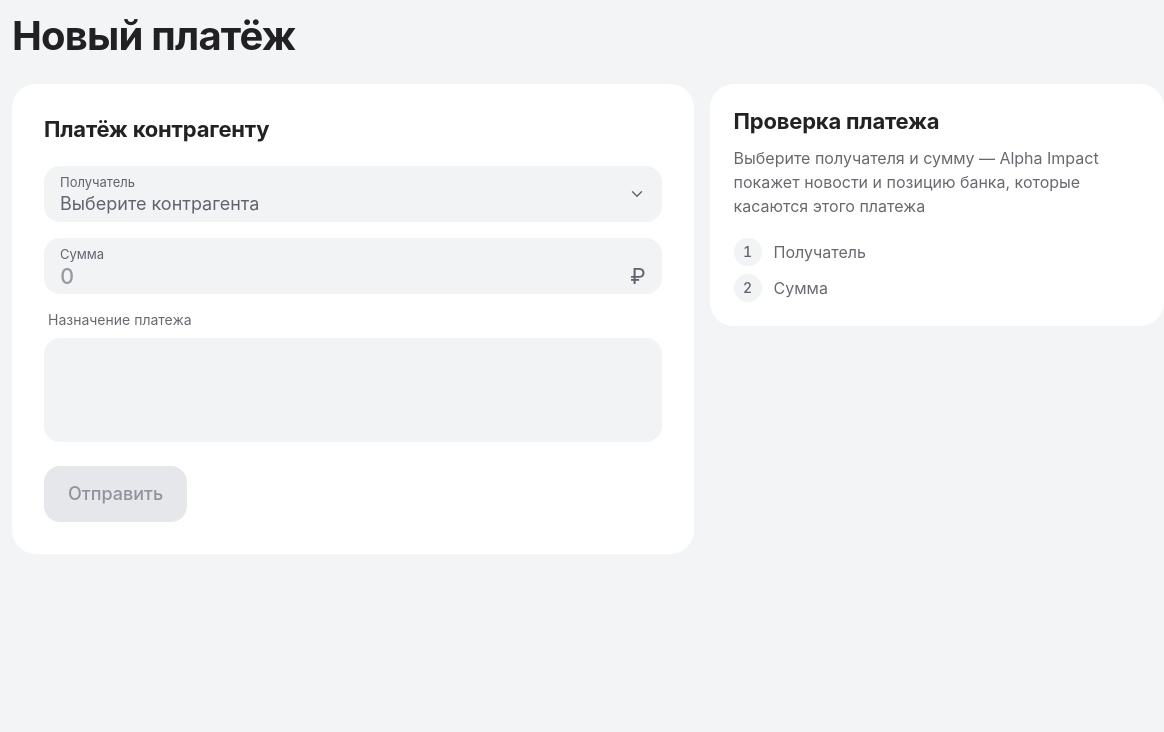
PaymentPage › explains an amount it cannot accept: 1500.555
The image size is (1164, 732).
Type "1500.555" into the field named "Сумма, ₽".
click(353, 266); type("1500.555")  # box [44,238,662,294]
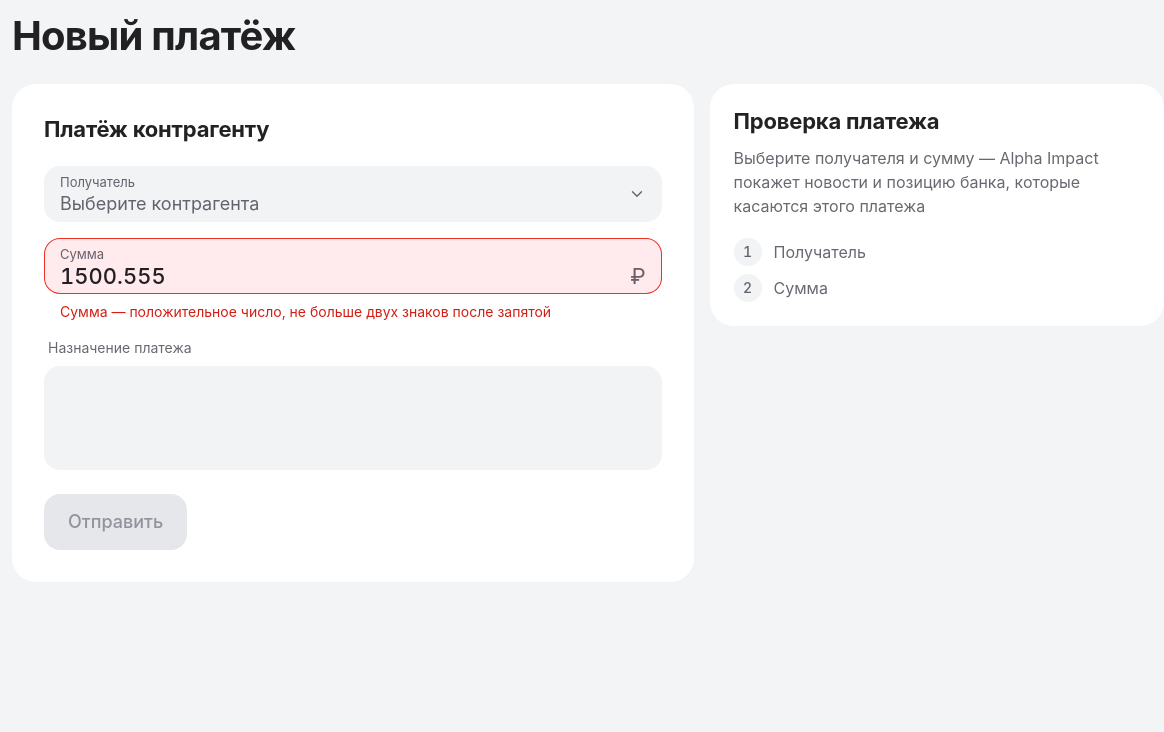
Expected: the text "Сумма — положительное число, не больше двух знаков после запятой" is shown, [60,303,551,320]
